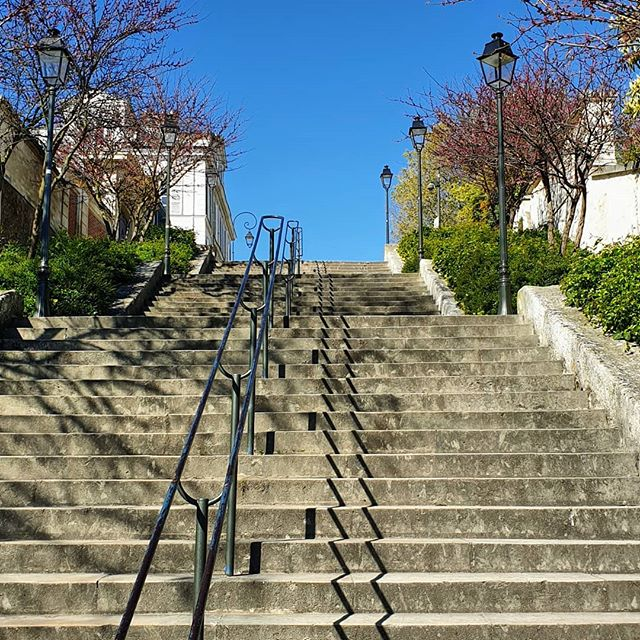building: (56, 113, 238, 252)
light pole: (469, 32, 542, 317), (12, 29, 85, 314), (400, 104, 436, 271), (153, 107, 189, 274), (377, 153, 397, 261)
sky: (201, 1, 469, 227)
tree: (1, 1, 167, 310), (427, 86, 612, 298), (78, 102, 193, 265)
